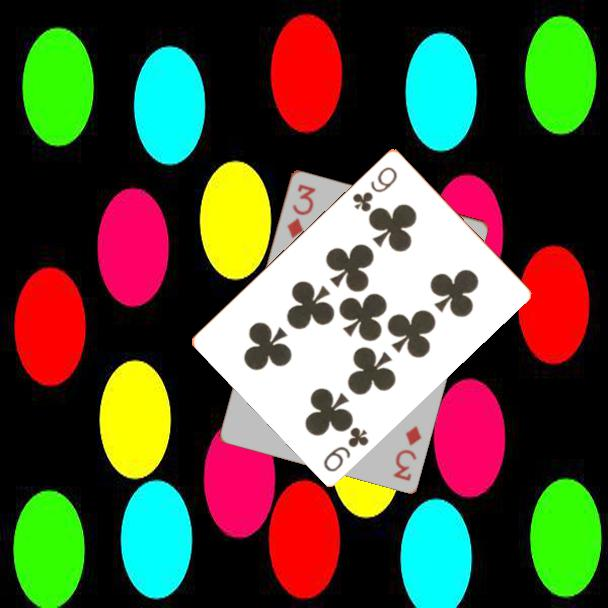c09: (349, 162, 400, 214), (320, 423, 372, 474)
d03: (283, 180, 318, 241), (390, 422, 424, 483)
